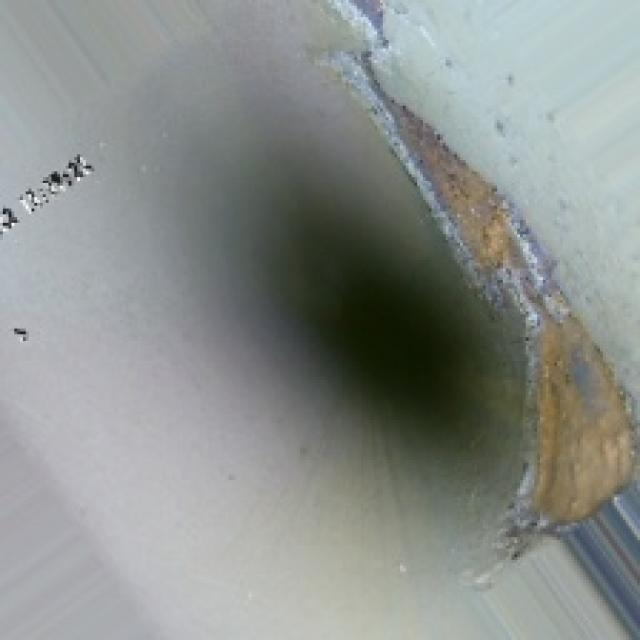pipe_surface_damage: (349, 51, 637, 540)
